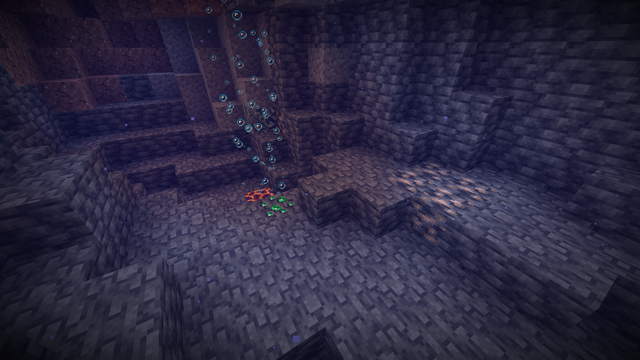emerald: (260, 192, 294, 220)
iron: (389, 159, 492, 249)
